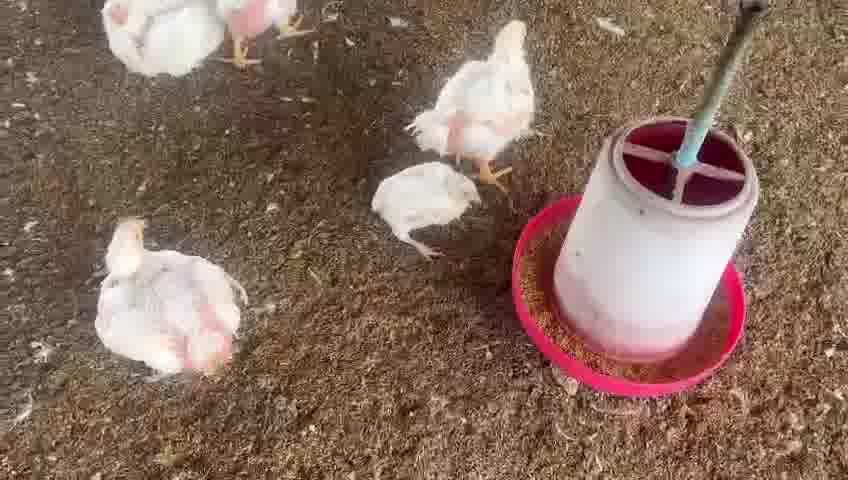AbNormal: (360, 154, 489, 263)
Normal: (95, 207, 238, 385), (418, 16, 544, 176), (96, 0, 243, 85)
